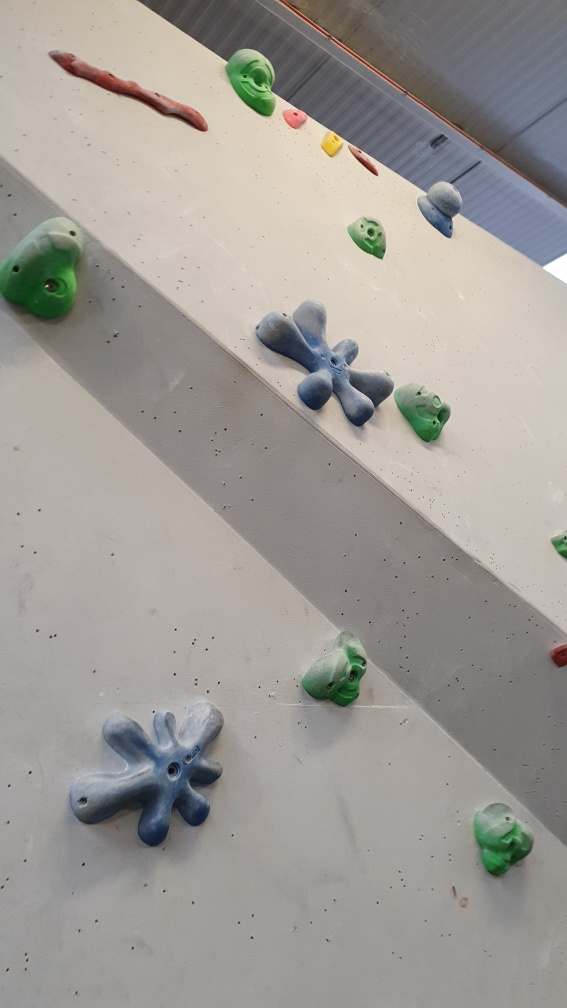Crimp: (347, 142, 382, 181), (283, 103, 311, 131)
Jug: (1, 214, 96, 327), (297, 629, 374, 715), (472, 800, 534, 874), (217, 45, 280, 117), (393, 378, 457, 441), (350, 211, 395, 263)
Octopus Pinch: (66, 699, 227, 847), (250, 292, 397, 430)
Sloper: (415, 177, 468, 245)
